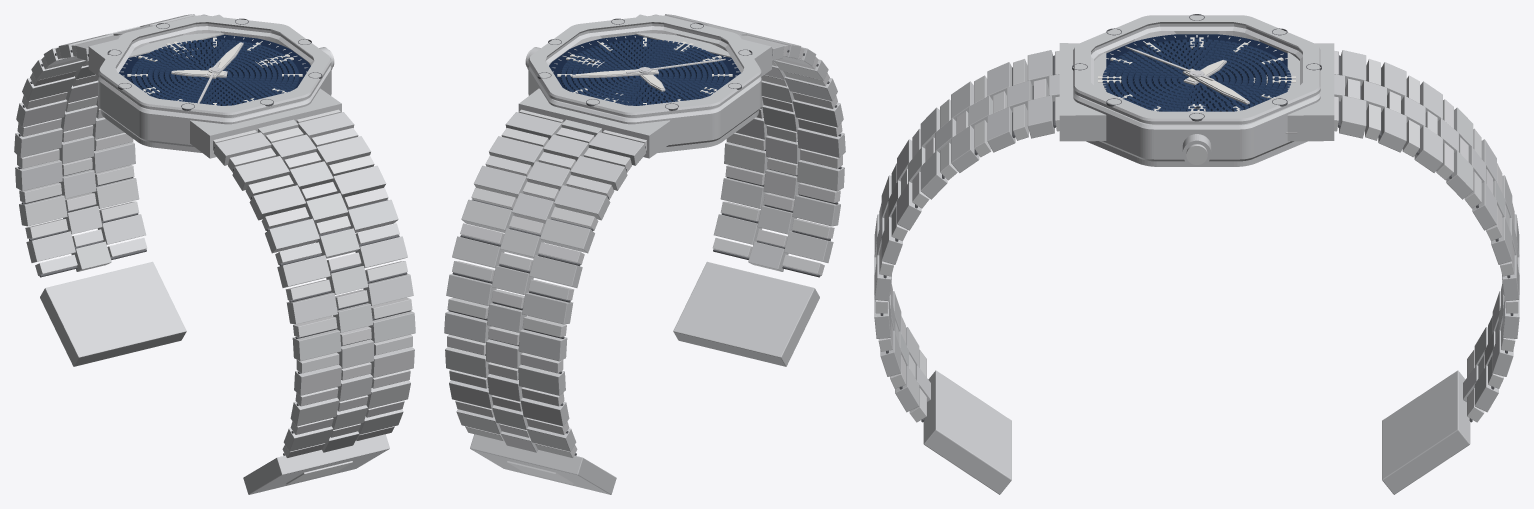
Rendered from watch.glb.
The picture shows the model from 3 angles, left to right: view 1: azimuth 30°, elevation 25°; view 2: azimuth 150°, elevation 25°; view 3: azimuth 270°, elevation 25°; orthographic projection. The views are drawn at different scales.
Parts seen in each view (by area): view 1: 链带_宽块_band12, 链带_宽块_band6, 链带_窄块_band12, 表扣_band6, 表盘格纹, 链带_窄块_band6, 表圈, 表壳中壳, 表扣_band12, 表耳_12, 表盘, 表耳_6 (+5 smaller); view 2: 链带_宽块_band6, 链带_宽块_band12, 链带_窄块_band6, 表扣_band12, 表盘格纹, 链带_窄块_band12, 表圈, 表壳中壳, 表扣_band6, 表耳_6, 表盘, 表耳_12 (+5 smaller); view 3: 链带_宽块_band6, 链带_宽块_band12, 表盘格纹, 表圈, 表壳中壳, 表扣_band6, 表扣_band12, 链带_窄块_band12, 链带_窄块_band6, 表耳_12, 表耳_6, 表盘 (+1 smaller).
Boxes of the visible parts, <box> form: 链带_宽块_band12: <box>214,112,415,452</box>; 链带_宽块_band6: <box>14,14,207,271</box>; 链带_窄块_band12: <box>213,109,412,457</box>; 表扣_band6: <box>40,261,186,366</box>; 表盘格纹: <box>130,39,299,105</box>; 链带_窄块_band6: <box>17,15,195,275</box>; 表圈: <box>98,15,331,117</box>; 表壳中壳: <box>98,31,331,146</box>; 表扣_band12: <box>243,434,389,494</box>; 表耳_12: <box>190,88,341,158</box>; 表盘: <box>119,34,310,105</box>; 表耳_6: <box>88,14,224,76</box>; 链带_宽块_band6: <box>444,112,645,452</box>; 链带_宽块_band12: <box>652,14,845,271</box>; 链带_窄块_band6: <box>447,109,646,457</box>; 表扣_band12: <box>673,261,819,366</box>; 表盘格纹: <box>560,39,729,105</box>; 链带_窄块_band12: <box>664,15,842,275</box>; 表圈: <box>528,15,761,117</box>; 表壳中壳: <box>528,31,761,146</box>; 表扣_band6: <box>470,434,616,494</box>; 表耳_6: <box>518,88,670,158</box>; 表盘: <box>549,34,740,105</box>; 表耳_12: <box>635,14,771,76</box>; 链带_宽块_band6: <box>1334,50,1519,412</box>; 链带_宽块_band12: <box>874,50,1059,412</box>; 表盘格纹: <box>1102,39,1291,111</box>; 表圈: <box>1073,15,1320,124</box>; 表壳中壳: <box>1073,31,1320,161</box>; 表扣_band6: <box>1382,370,1470,494</box>; 表扣_band12: <box>923,370,1011,494</box>; 链带_窄块_band12: <box>875,51,1059,422</box>; 链带_窄块_band6: <box>1334,51,1518,422</box>; 表耳_12: <box>1059,43,1106,141</box>; 表耳_6: <box>1287,43,1334,141</box>; 表盘: <box>1106,34,1287,111</box>.
Size of the model in its own units: 0.0399 by 0.0641 by 0.094.
